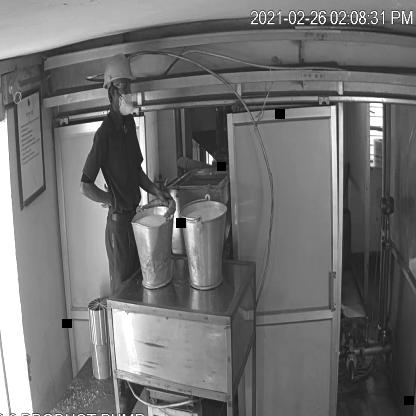helmet: (100, 52, 136, 91)
